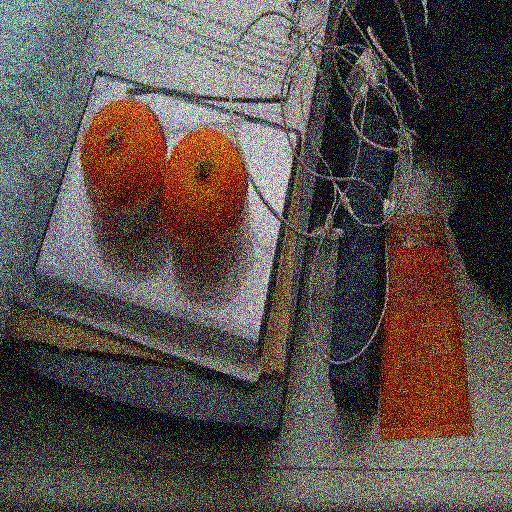fruit: (90, 106, 390, 367), (0, 104, 338, 330)
